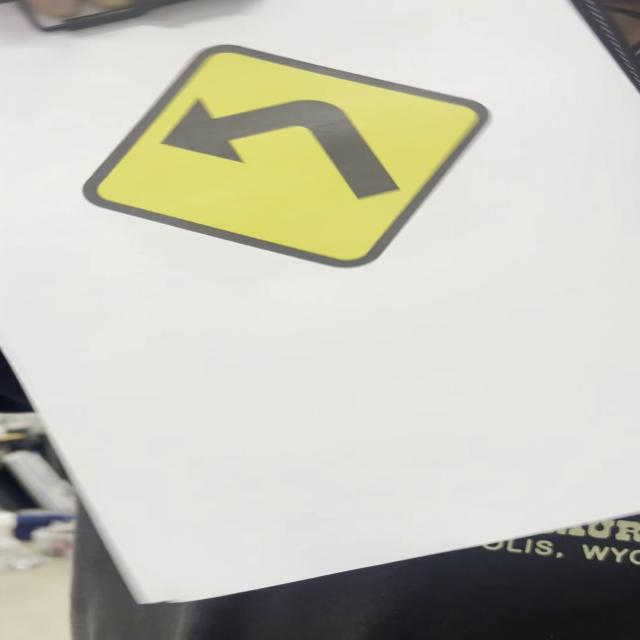left: (84, 47, 493, 268)
